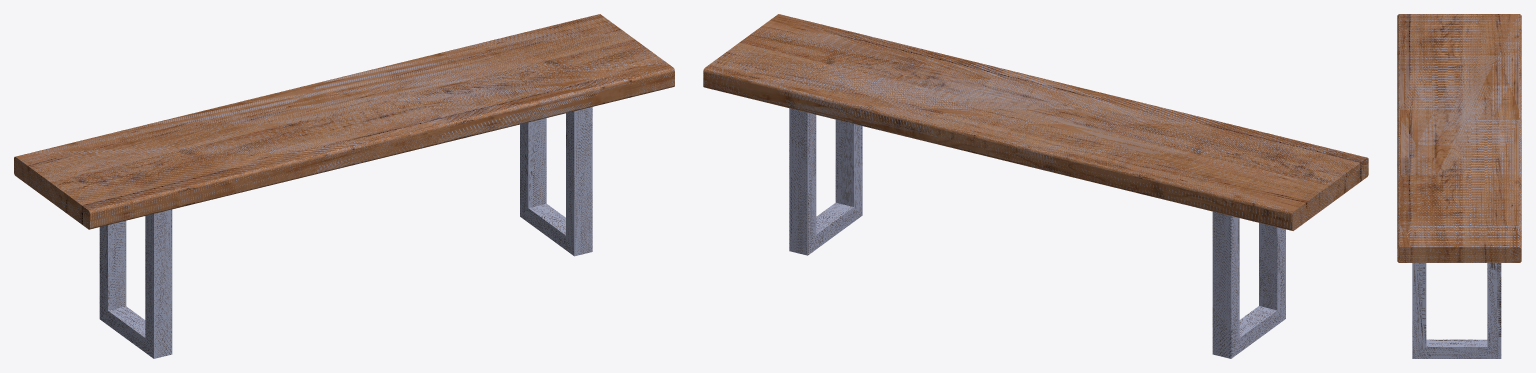
Rendered from KARE+75738+Factory+Bench+Wood+160+(Factory+Bank+Wood+160).fbx.
The picture shows the model from 3 angles, left to right: view 1: azimuth 30°, elevation 25°; view 2: azimuth 150°, elevation 25°; view 3: azimuth 270°, elevation 25°; orthographic projection. The views are drawn at different scales.
Parts seen in each view (by area): view 1: Group1, Group_7_2, Group_7_1; view 2: Group1, Group_7_1, Group_7_2; view 3: Group1, Group_7_1.
Part boxes in pixels (box(x1,y1,x2,y2)): Group1: box(14, 14, 674, 229); Group_7_2: box(99, 209, 172, 358); Group_7_1: box(520, 107, 592, 256); Group1: box(703, 14, 1368, 230); Group_7_1: box(789, 108, 862, 255); Group_7_2: box(1212, 211, 1285, 358); Group1: box(1397, 14, 1521, 262); Group_7_1: box(1412, 263, 1501, 358).
Bounding box in the file's own units: 1600 × 450 × 360.
